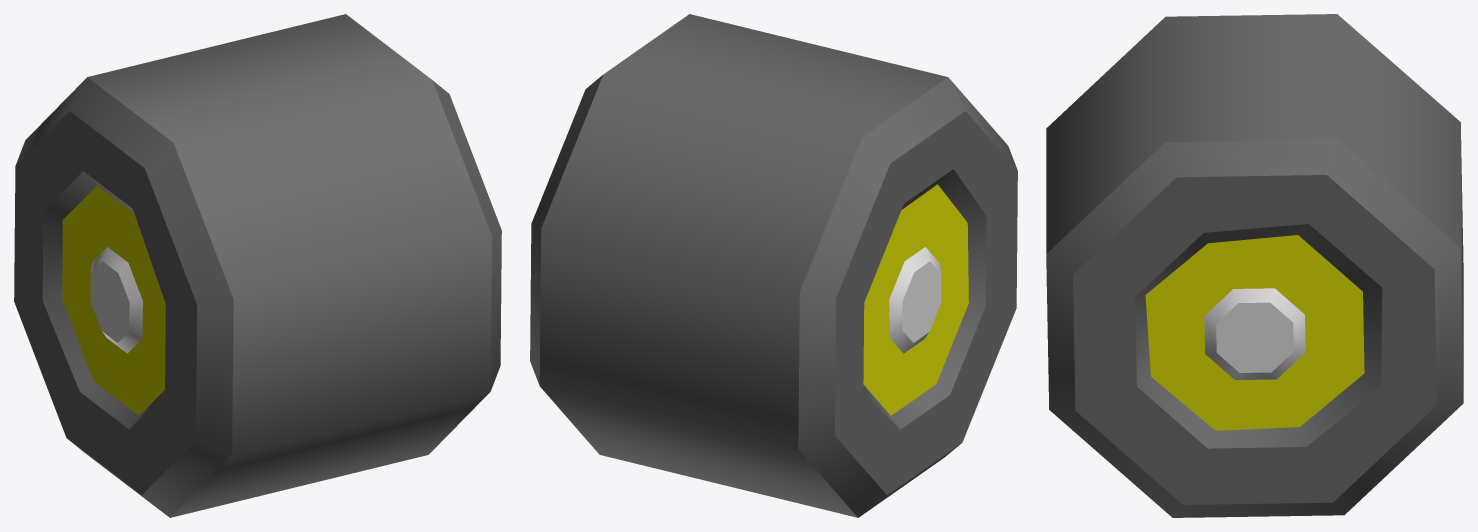
File: Butler_Wheel.fbx
The picture shows the model from 3 angles, left to right: view 1: azimuth 30°, elevation 25°; view 2: azimuth 150°, elevation 25°; view 3: azimuth 270°, elevation 25°; orthographic projection.
Parts seen in each view (by area): view 1: Butler_Wheel; view 2: Butler_Wheel; view 3: Butler_Wheel.
Part boxes in pixels (bbox=[...]): Butler_Wheel: bbox=[14, 14, 501, 517]; Butler_Wheel: bbox=[530, 14, 1017, 517]; Butler_Wheel: bbox=[1046, 14, 1463, 517].
Size of the model in its own units: 37.61 by 44.86 by 44.86.
